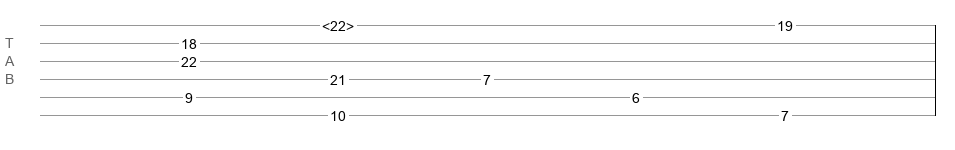10: (330, 108, 346, 118)
18: (181, 36, 197, 46)
19: (777, 18, 793, 28)
21: (330, 72, 346, 82)
22: (181, 54, 197, 64)
6: (632, 90, 640, 100)
7: (483, 72, 491, 82), (781, 108, 789, 118)
9: (185, 90, 193, 100)
harmonic: (322, 18, 354, 28)
